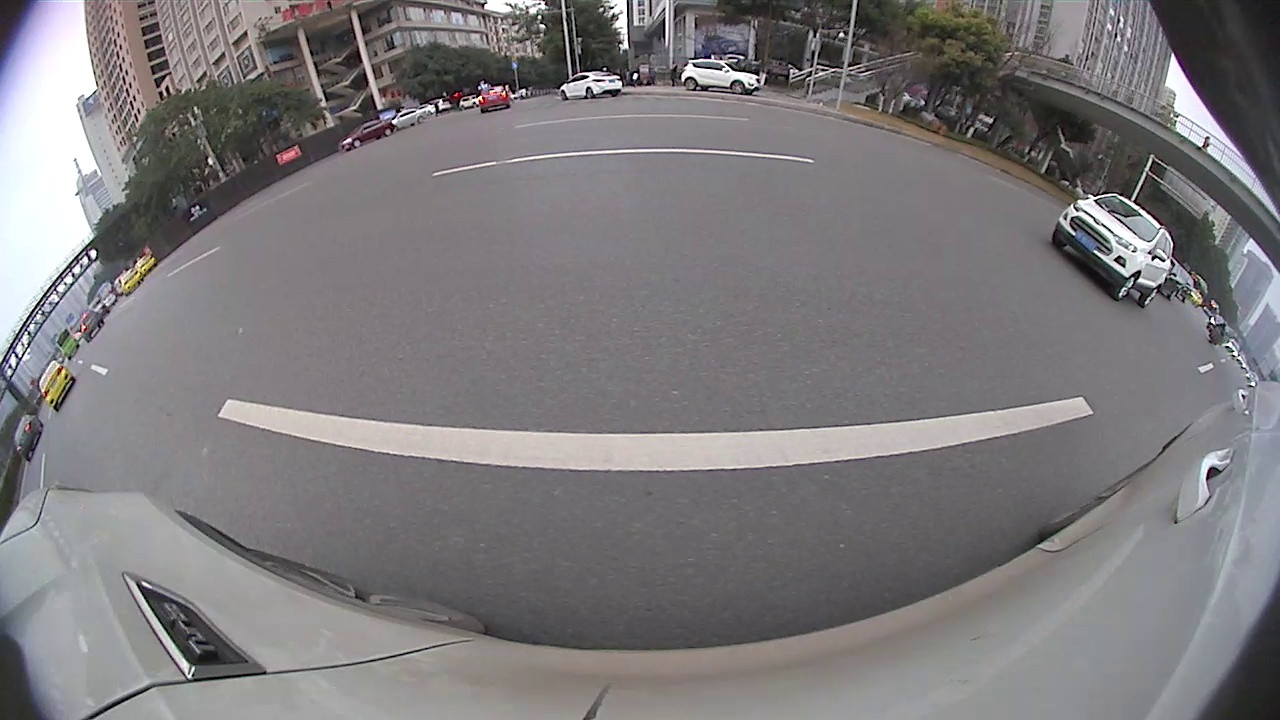bus: (1009, 1, 1279, 449), (853, 120, 1053, 255)
car: (0, 331, 128, 491), (540, 126, 685, 234), (798, 149, 947, 247), (425, 140, 538, 228), (688, 153, 772, 204), (773, 165, 811, 196)
front: (1071, 290, 1200, 443), (15, 410, 98, 497)
rear: (993, 217, 1032, 258), (508, 181, 525, 216), (824, 193, 838, 230)
